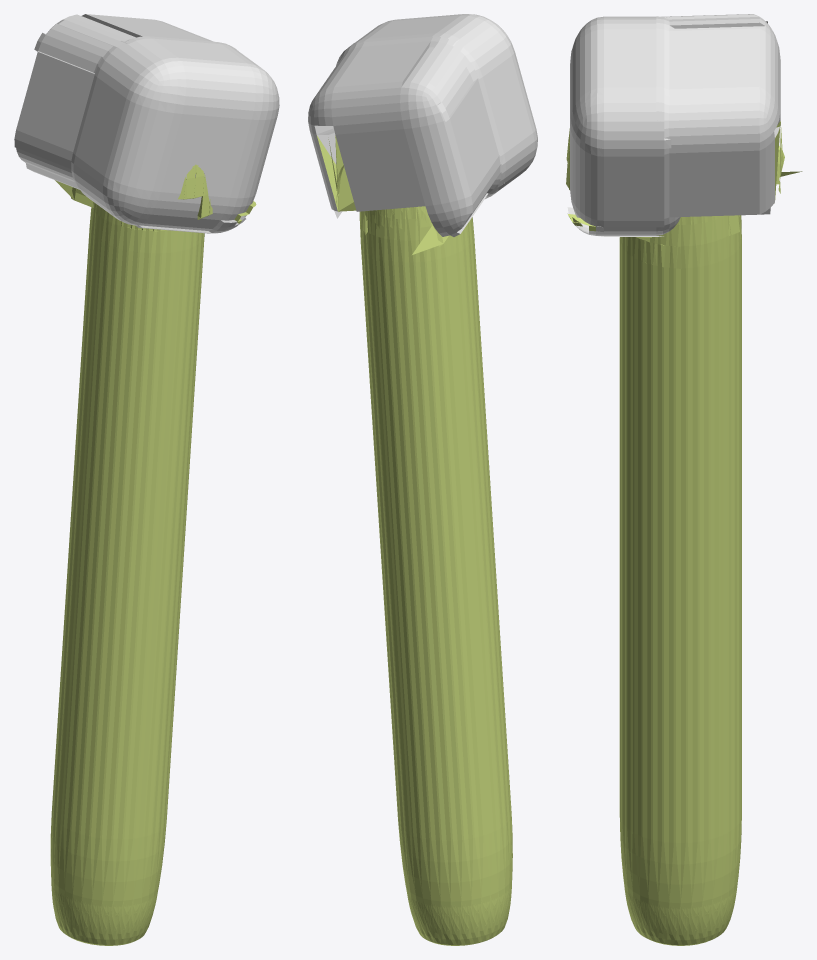
The model's file is knee_mirror_new.dae.
3 views of the same model, side by side, from view 1: azimuth 30°, elevation 25°; view 2: azimuth 150°, elevation 25°; view 3: azimuth 270°, elevation 25° (orthographic). The views are drawn at different scales.
Visible parts, largest first — view 1: Cylinder.001; view 2: Cylinder.001; view 3: Cylinder.001.
Boxes of the visible parts, x1=… form: Cylinder.001: x1=14, y1=14, x2=279, y2=945; Cylinder.001: x1=308, y1=14, x2=537, y2=945; Cylinder.001: x1=566, y1=14, x2=802, y2=945.
Bounding box in the file's own units: 0.055 × 0.0589 × 0.2526.
